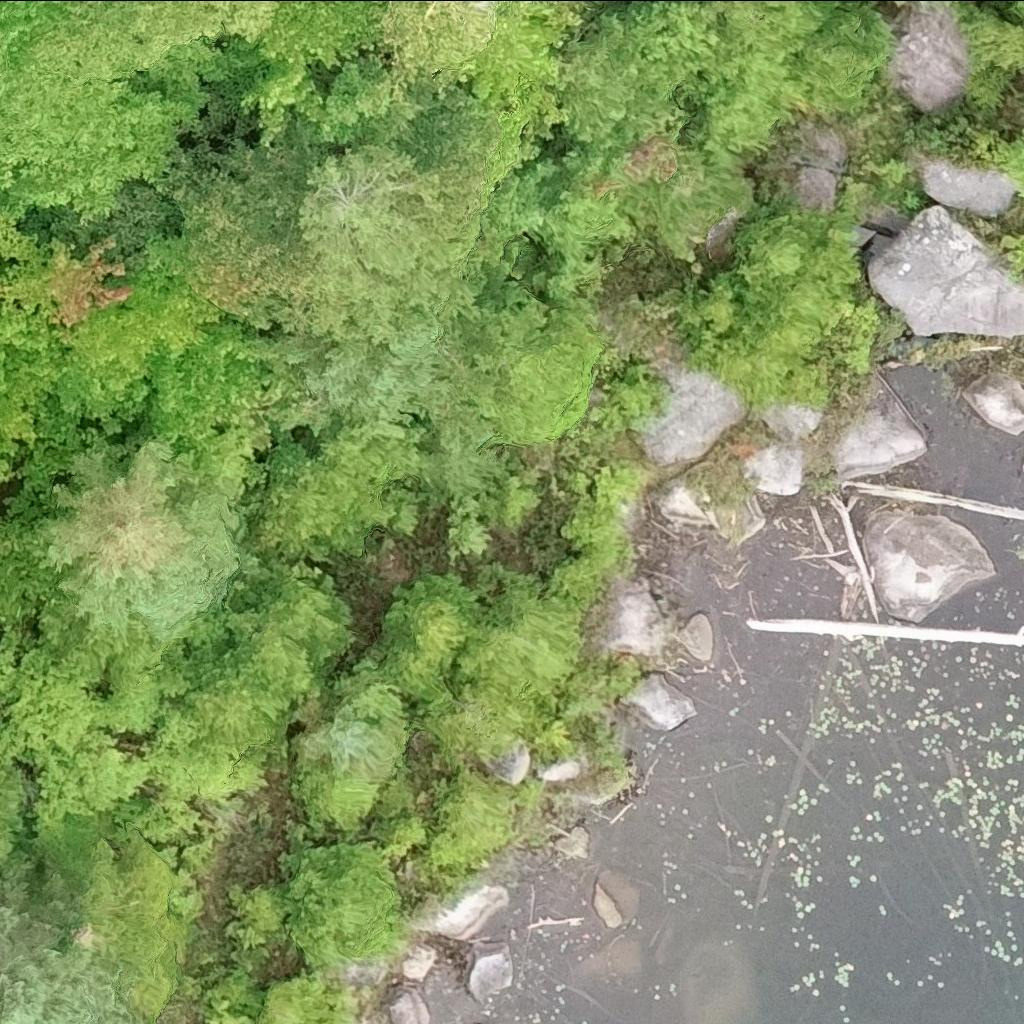crown: (645, 180, 876, 416), (27, 439, 259, 643), (297, 140, 476, 340), (55, 257, 224, 435), (57, 822, 180, 1023), (454, 0, 582, 190), (0, 861, 149, 1023), (30, 0, 281, 82), (142, 663, 279, 802), (559, 11, 687, 156), (439, 565, 580, 695), (0, 298, 82, 515), (0, 620, 118, 764), (147, 321, 260, 462), (249, 561, 354, 712), (285, 840, 401, 965), (379, 572, 486, 699), (423, 681, 572, 769), (89, 609, 191, 734), (0, 236, 131, 326), (798, 3, 896, 115), (657, 138, 746, 259), (30, 749, 153, 835), (431, 770, 516, 874), (297, 704, 406, 783), (383, 0, 496, 69), (292, 756, 379, 830), (334, 657, 409, 731), (254, 968, 354, 1023), (0, 751, 25, 878), (0, 345, 35, 432), (0, 202, 22, 276), (0, 39, 1, 64)
